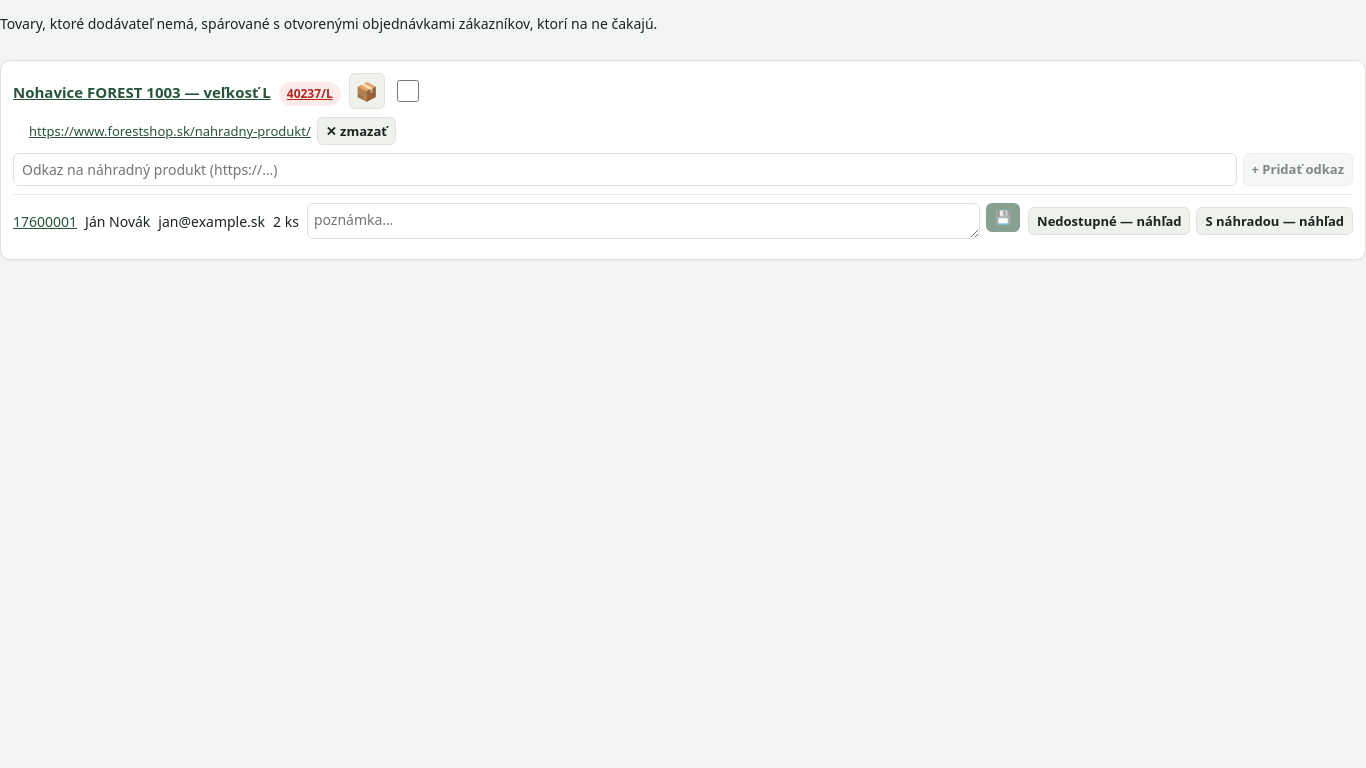
Scenario: klik na 'náhľad' otvorí povinný náhľad PRED odoslaním — Odoslať sa ešte nevolá
Expected: the element with test id "nedostupne-group-40237/L" is shown, 0,60 -> 1365,260
Click the button with test id "nedostupne-send-17600001-40237/L" at (1109, 221), box 1028,207 -> 1190,236
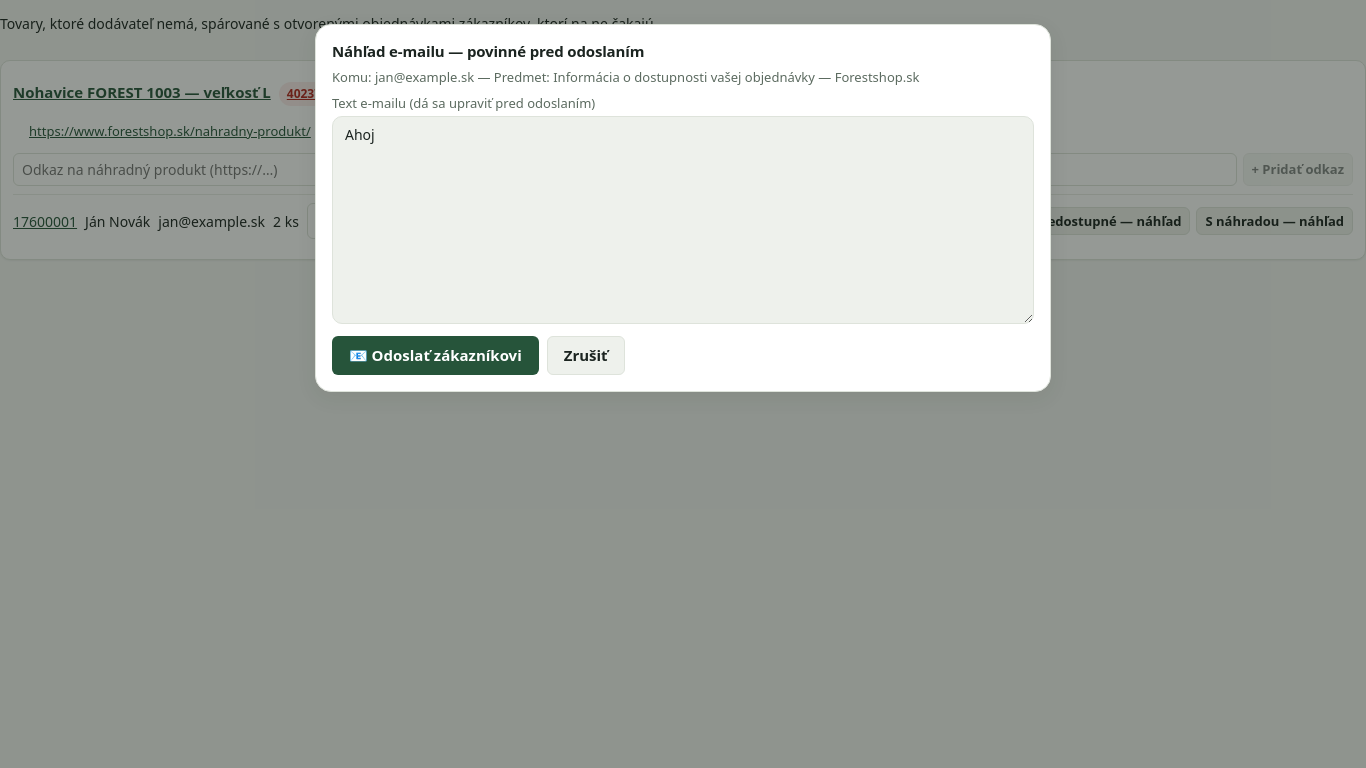
Expected: the text "jan@example.sk" is shown, 158,212 -> 265,231
Expected: the dialog with test id "nedostupne-preview" is shown, 315,24 -> 1051,392
